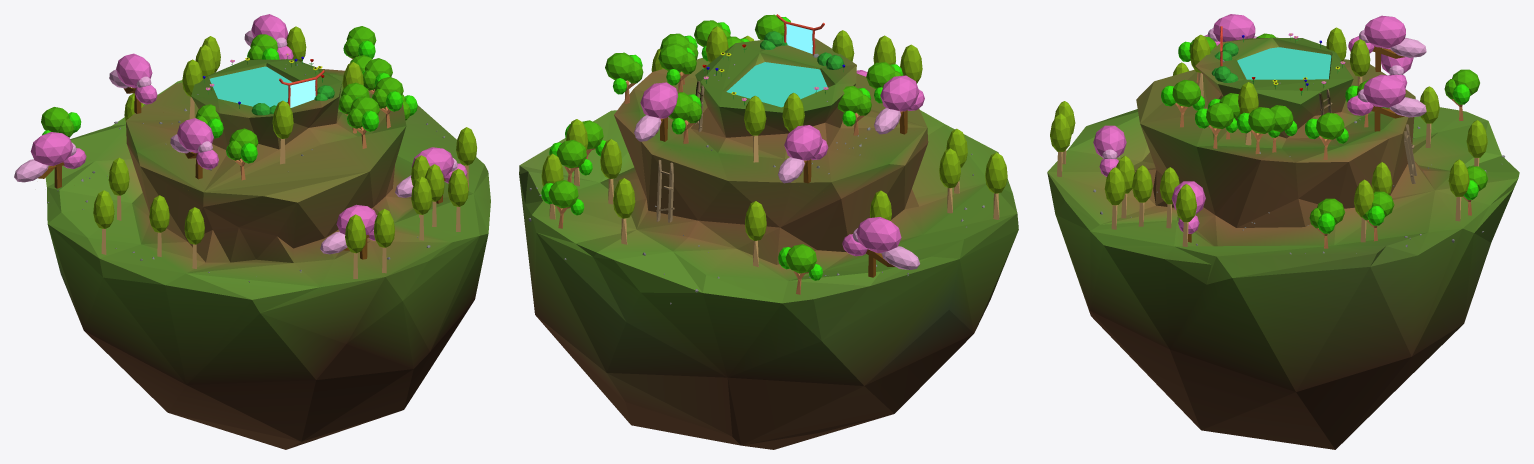
3 views of the same model, side by side, from view 1: azimuth 30°, elevation 25°; view 2: azimuth 150°, elevation 25°; view 3: azimuth 270°, elevation 25° (orthographic). The views are drawn at different scales.
Visible parts, largest first — view 1: Island.020, Water.020, Tree3 - 2.076, Tree3 - 2.079, Tree3 - 2.078, Tree3 - 2.074, Tree3 - 2.075, Tree3 - 2.077, Tree1 - 2.112, Tree1 - 2.116, Tree1 - 2.118, Tree1 - 2.110 (+19 smaller); view 2: Island.020, Water.020, Tree3 - 2.076, Tree3 - 2.079, Tree3 - 2.078, Tree3 - 2.077, Tree1 - 2.115, Tree1 - 2.117, Tree1 - 2.110, Tree1 - 2.109, Tree1 - 2.113, Tree1 - 2.119 (+21 smaller); view 3: Island.020, Water.020, Tree3 - 2.077, Tree3 - 2.078, Tree3 - 2.074, Tree1 - 2.115, Tree1 - 2.112, Tree3 - 2.079, Tree1 - 2.118, Tree1 - 2.111, Tree1 - 2.110, Tree1 - 2.107 (+20 smaller).
Part boxes in pixels (x1=…): Island.020: x1=45, y1=59, x2=490, y2=449; Water.020: x1=209, y1=66, x2=292, y2=107; Tree3 - 2.076: x1=14, y1=132, x2=86, y2=188; Tree3 - 2.079: x1=170, y1=118, x2=218, y2=179; Tree3 - 2.078: x1=109, y1=53, x2=157, y2=113; Tree3 - 2.074: x1=320, y1=204, x2=377, y2=259; Tree3 - 2.075: x1=395, y1=147, x2=467, y2=203; Tree3 - 2.077: x1=244, y1=14, x2=293, y2=59; Tree1 - 2.112: x1=347, y1=96, x2=379, y2=148; Tree1 - 2.116: x1=226, y1=128, x2=258, y2=180; Tree1 - 2.118: x1=372, y1=77, x2=403, y2=128; Tree1 - 2.110: x1=41, y1=107, x2=81, y2=137; Island.020: x1=519, y1=38, x2=1018, y2=449; Water.020: x1=726, y1=62, x2=827, y2=107; Tree3 - 2.076: x1=842, y1=217, x2=919, y2=277; Tree3 - 2.079: x1=874, y1=75, x2=924, y2=134; Tree3 - 2.078: x1=778, y1=125, x2=828, y2=183; Tree3 - 2.077: x1=634, y1=82, x2=677, y2=141; Tree1 - 2.115: x1=605, y1=52, x2=643, y2=103; Tree1 - 2.117: x1=658, y1=43, x2=696, y2=92; Tree1 - 2.110: x1=778, y1=244, x2=822, y2=294; Tree1 - 2.109: x1=541, y1=180, x2=584, y2=228; Tree1 - 2.113: x1=837, y1=86, x2=871, y2=135; Tree1 - 2.119: x1=668, y1=92, x2=702, y2=143; Island.020: x1=1047, y1=37, x2=1519, y2=449; Water.020: x1=1237, y1=47, x2=1331, y2=79; Tree3 - 2.077: x1=1347, y1=74, x2=1426, y2=131; Tree3 - 2.078: x1=1348, y1=15, x2=1426, y2=71; Tree3 - 2.074: x1=1093, y1=125, x2=1126, y2=176; Tree1 - 2.115: x1=1305, y1=112, x2=1348, y2=159; Tree1 - 2.112: x1=1161, y1=79, x2=1204, y2=127; Tree3 - 2.079: x1=1204, y1=14, x2=1256, y2=45; Tree1 - 2.118: x1=1195, y1=102, x2=1237, y2=148; Tree1 - 2.111: x1=1237, y1=107, x2=1280, y2=154; Tree1 - 2.110: x1=1444, y1=69, x2=1479, y2=120; Tree1 - 2.107: x1=1309, y1=198, x2=1344, y2=248.
Bounding box in the file's own units: 41.96 × 39.87 × 43.73.
